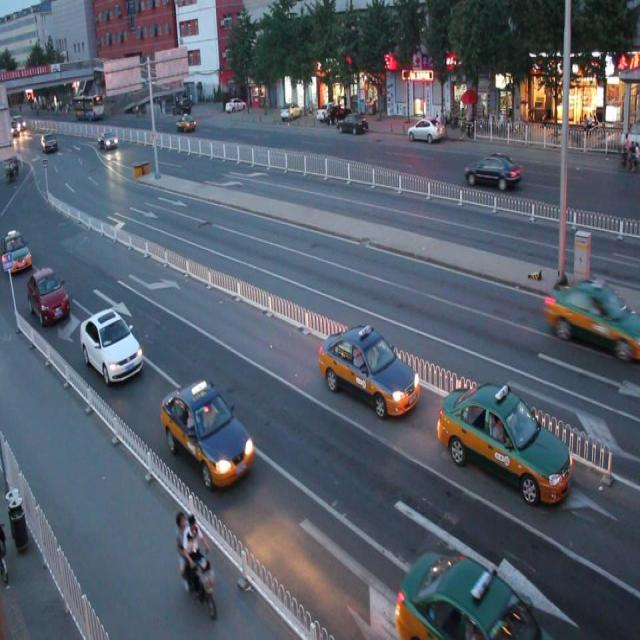car: (437, 378, 573, 504), (394, 547, 552, 640), (161, 379, 253, 487), (318, 323, 419, 417), (545, 277, 632, 355), (78, 306, 142, 384), (28, 268, 71, 326), (464, 152, 521, 191)
